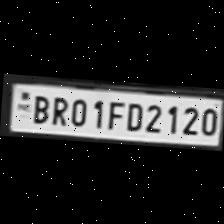0: (66, 94, 88, 127), (197, 105, 218, 136)
1: (160, 102, 179, 136), (87, 96, 105, 130)
2: (176, 103, 198, 136), (140, 102, 162, 134)
B: (28, 92, 48, 124)
D: (122, 98, 144, 131)
F: (102, 97, 124, 131)
R: (46, 92, 68, 125)
